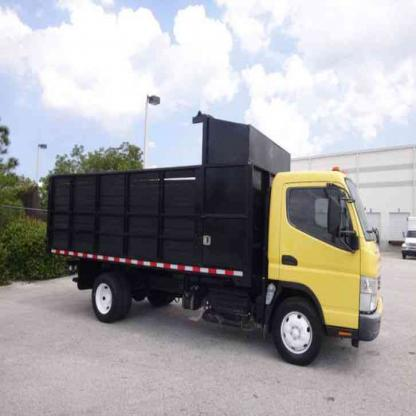truck: (49, 164, 383, 363)
